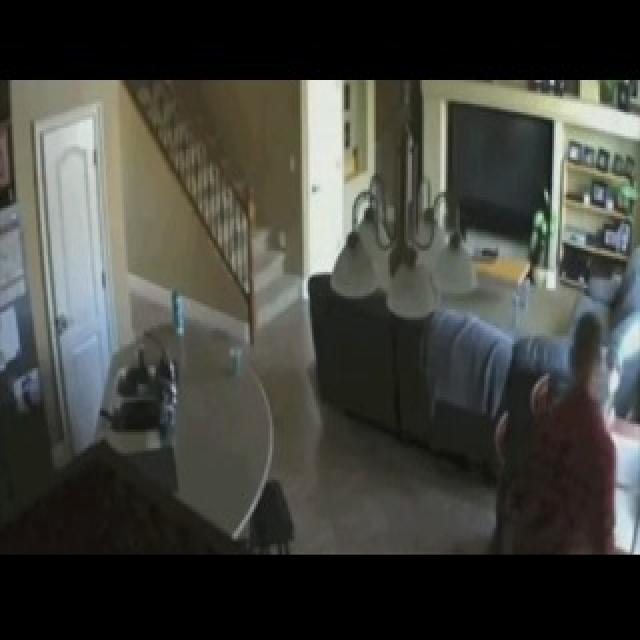thief: (541, 294, 612, 460)
